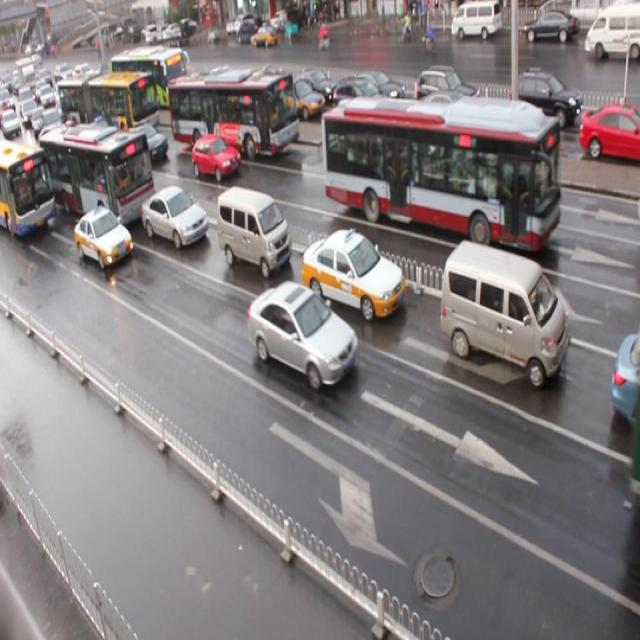car: (248, 279, 358, 392), (300, 228, 404, 321), (141, 185, 208, 250), (74, 204, 134, 270), (191, 134, 241, 181), (126, 123, 169, 163)
truck: (440, 240, 568, 386), (216, 186, 292, 276)
van: (320, 95, 558, 252), (38, 121, 156, 232), (168, 71, 298, 157), (58, 74, 158, 130), (1, 139, 56, 236)
